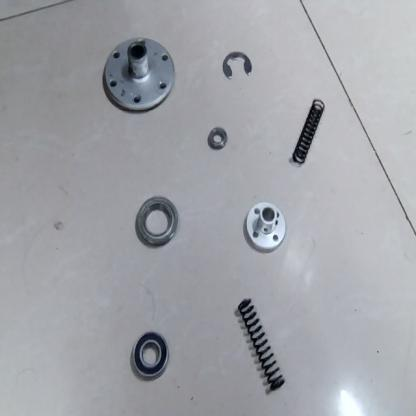FOD: (97, 33, 177, 115), (236, 295, 289, 396), (130, 194, 180, 251), (290, 95, 326, 172), (244, 198, 290, 254), (127, 329, 174, 382), (221, 50, 254, 83), (205, 122, 229, 153)
